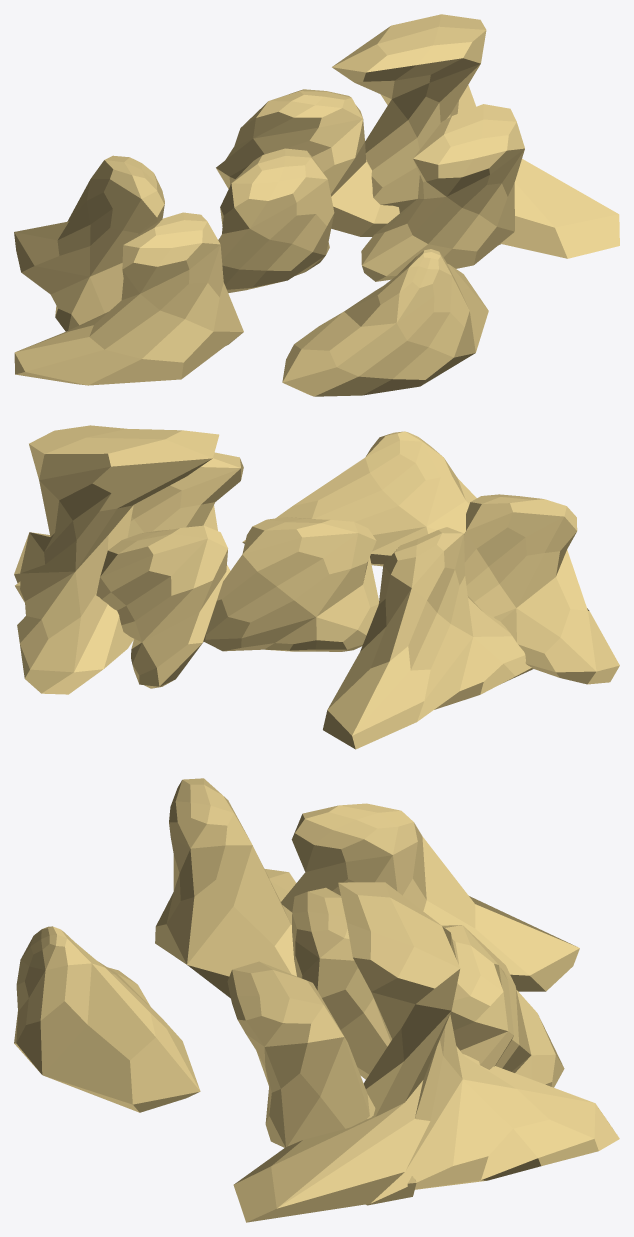
File: Rocks.fbx
The picture shows the model from 3 angles, top to bottom: view 1: azimuth 30°, elevation 25°; view 2: azimuth 150°, elevation 25°; view 3: azimuth 270°, elevation 25°; orthographic projection. The views are drawn at different scales.
Parts seen in each view (by area): view 1: Cube.006, Cube.005, Cube.002, Cube.003, Cube.004, Cube, Cube.001; view 2: Cube.006, Cube.004, Cube, Cube.005, Cube.001, Cube.002, Cube.003; view 3: Cube.006, Cube.002, Cube.005, Cube.004, Cube.003, Cube.001, Cube.
Boxes of the visible parts, left/top/right/bottom form: Cube.006: left=332, top=14, right=619, bottom=258; Cube.005: left=14, top=212, right=243, bottom=385; Cube.002: left=282, top=249, right=488, bottom=396; Cube.003: left=361, top=104, right=524, bottom=281; Cube.004: left=14, top=155, right=164, bottom=331; Cube: left=218, top=148, right=334, bottom=292; Cube.001: left=216, top=89, right=399, bottom=236; Cube.006: left=14, top=425, right=219, bottom=694; Cube.004: left=323, top=527, right=532, bottom=749; Cube: left=204, top=517, right=378, bottom=651; Cube.005: left=464, top=494, right=619, bottom=684; Cube.001: left=96, top=525, right=227, bottom=688; Cube.002: left=242, top=431, right=476, bottom=566; Cube.003: left=15, top=452, right=243, bottom=602; Cube.006: left=233, top=882, right=619, bottom=1222; Cube.002: left=14, top=926, right=200, bottom=1112; Cube.005: left=155, top=778, right=296, bottom=998; Cube.004: left=281, top=803, right=579, bottom=991; Cube.003: left=227, top=961, right=416, bottom=1205; Cube.001: left=442, top=925, right=564, bottom=1087; Cube: left=292, top=887, right=390, bottom=1079.
Size of the model in its own units: 1944 by 619 by 1483.
